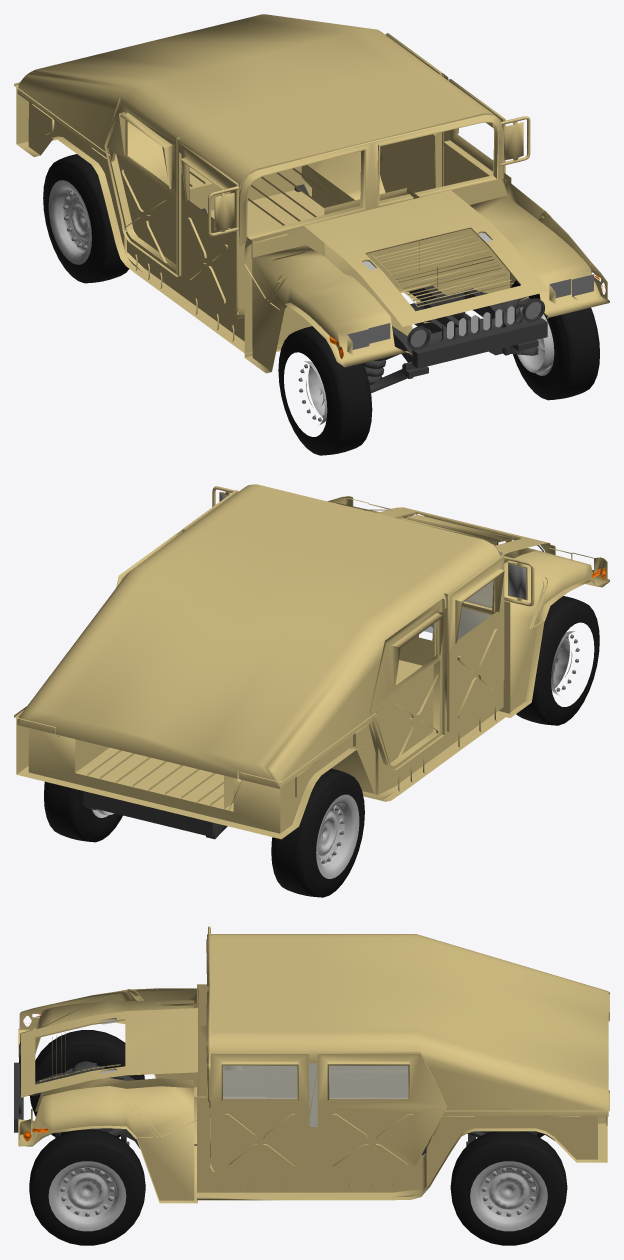
Rendered from coche_amarillo.glb.
3 renders of one model, top to bottom at view 1: azimuth 30°, elevation 25°; view 2: azimuth 150°, elevation 25°; view 3: azimuth 270°, elevation 25°, orthographic. The views are drawn at different scales.
Visible parts, largest first — view 1: body, tires, rims, spring; view 2: body, tires, rims, glass_2; view 3: body, tires, rims, glass.
Boxes of the visible parts, x1=… form: body: x1=14, y1=14, x2=609, y2=393; tires: x1=43, y1=154, x2=599, y2=455; rims: x1=48, y1=180, x2=554, y2=425; spring: x1=363, y1=299, x2=523, y2=384; body: x1=14, y1=484, x2=609, y2=839; tires: x1=44, y1=596, x2=599, y2=897; rims: x1=92, y1=631, x2=577, y2=878; glass_2: x1=424, y1=551, x2=502, y2=639; body: x1=14, y1=926, x2=609, y2=1203; tires: x1=29, y1=1030, x2=567, y2=1245; rims: x1=48, y1=1068, x2=547, y2=1231; glass: x1=223, y1=1063, x2=408, y2=1126.
Bounding box in the file's own units: 184 × 126 × 330.
